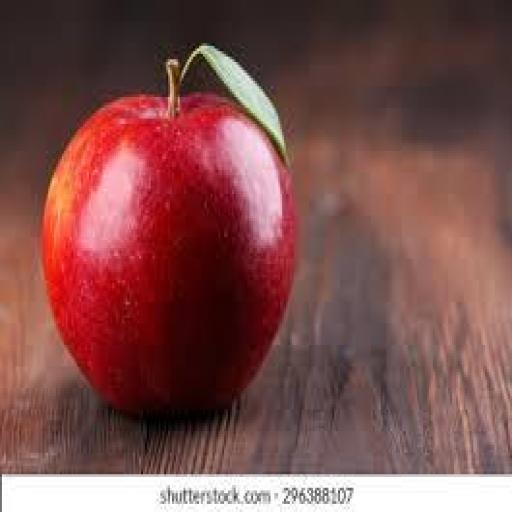apple: (43, 95, 295, 412)
